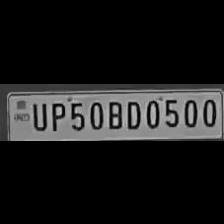0: (198, 96, 218, 127), (86, 97, 104, 129), (142, 96, 160, 128), (180, 96, 198, 127)
5: (66, 98, 86, 130), (161, 96, 179, 128)
B: (105, 97, 123, 129)
D: (122, 96, 142, 130)
P: (48, 98, 66, 132)
U: (28, 98, 46, 130)
